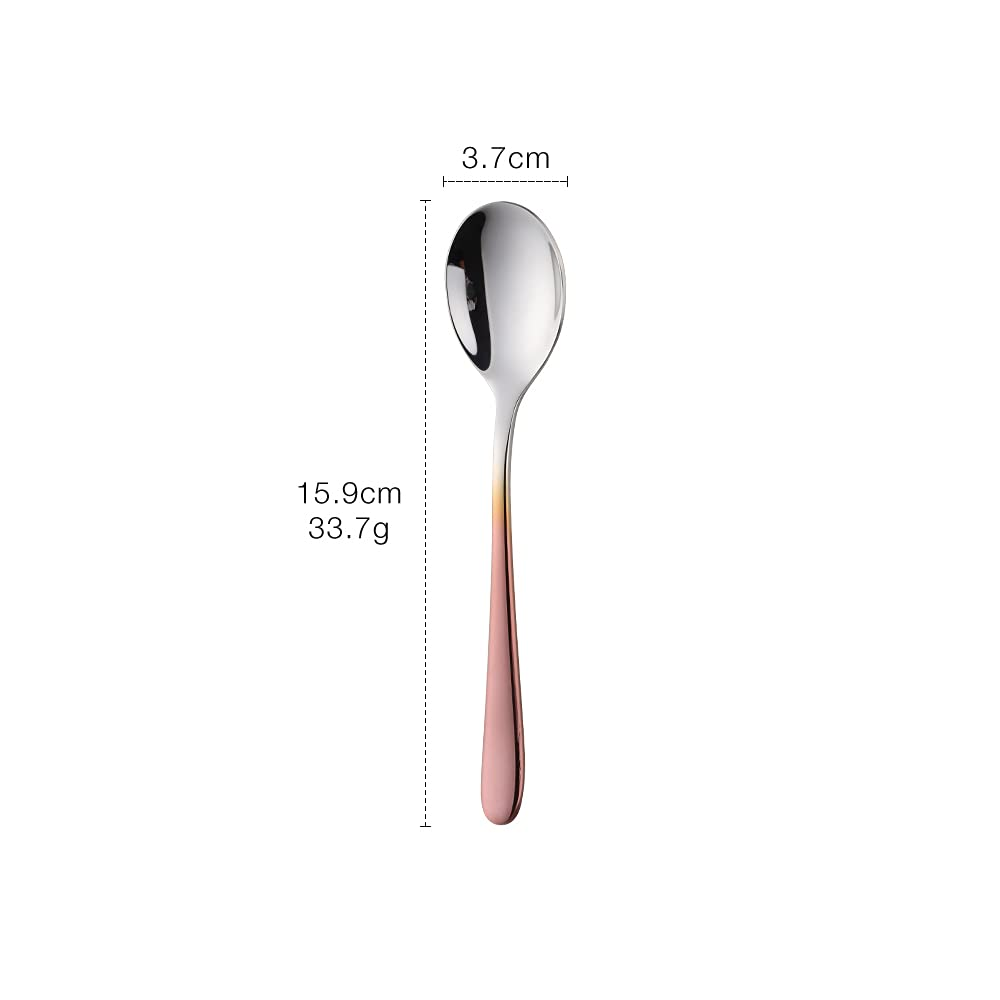15.9cm: (298, 482, 400, 504)
